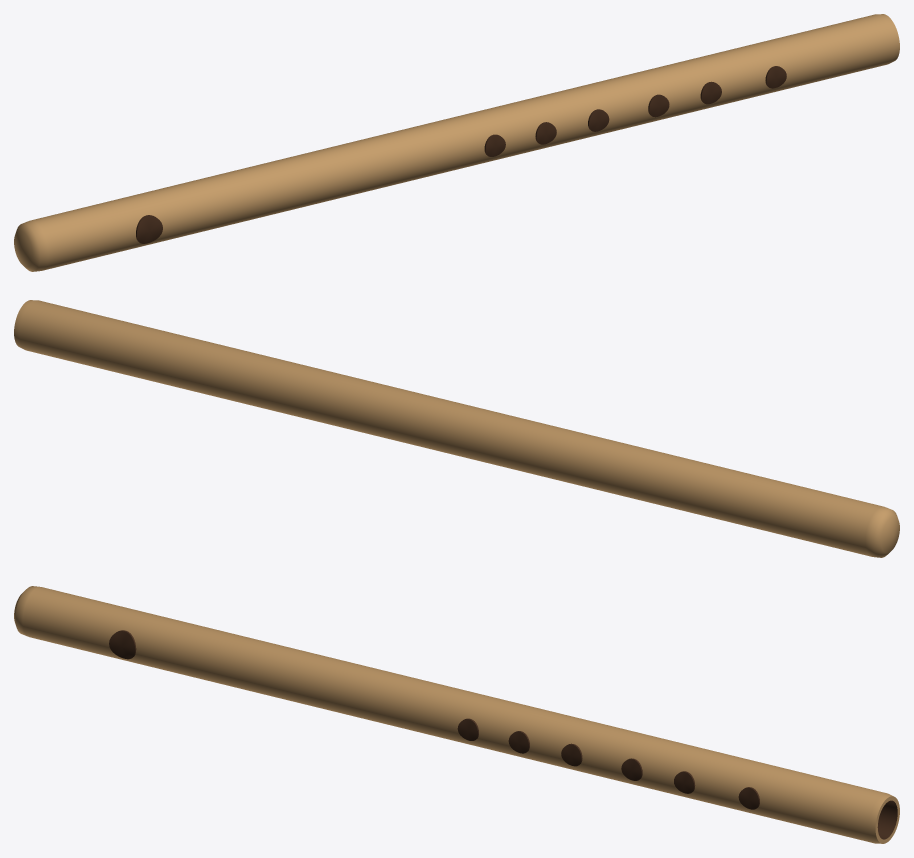
File: Suling.fbx
3 renders of one model, top to bottom at view 1: azimuth 30°, elevation 25°; view 2: azimuth 150°, elevation 25°; view 3: azimuth 330°, elevation 25°, orthographic.
Visible parts, largest first — view 1: Suling_Mesh; view 2: Suling_Mesh; view 3: Suling_Mesh.
Part boxes in pixels (x1,y1,x2,y2): Suling_Mesh: (14, 14, 899, 271); Suling_Mesh: (14, 300, 899, 557); Suling_Mesh: (14, 586, 899, 843).
Size of the model in its own units: 0.562 by 0.029 by 0.0301.
